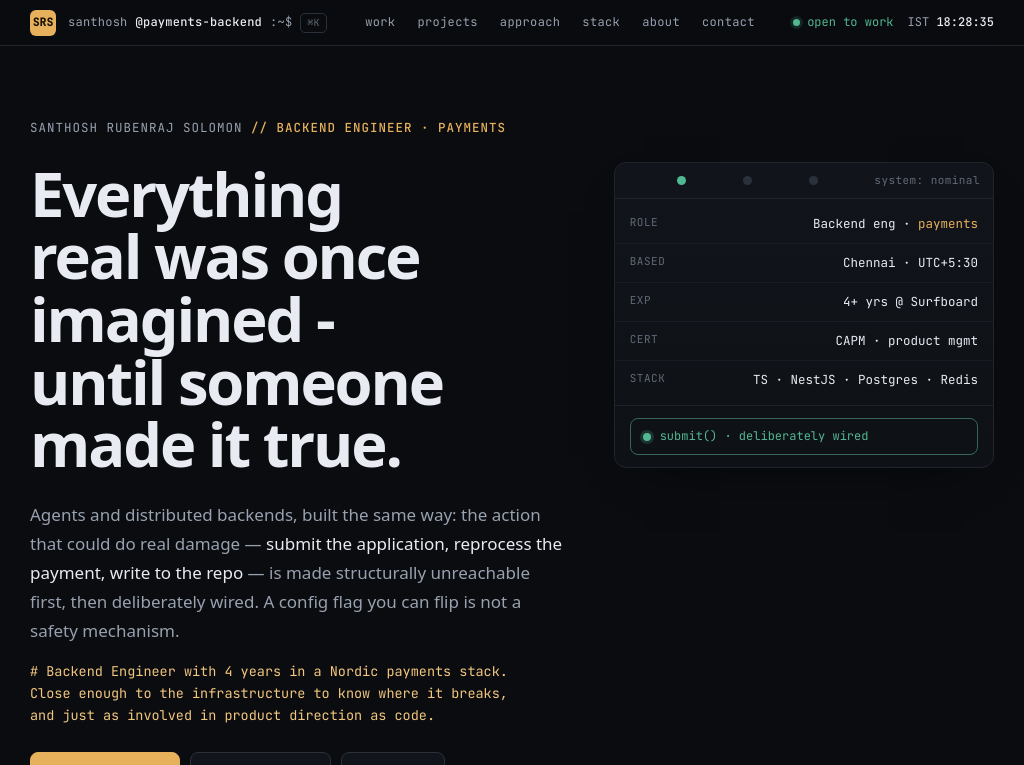
Test: commands › "work" closes the palette and scrolls to the section
Click the button titled "Command palette (⌘K)".
click(197, 22)  # box [68, 12, 327, 32]
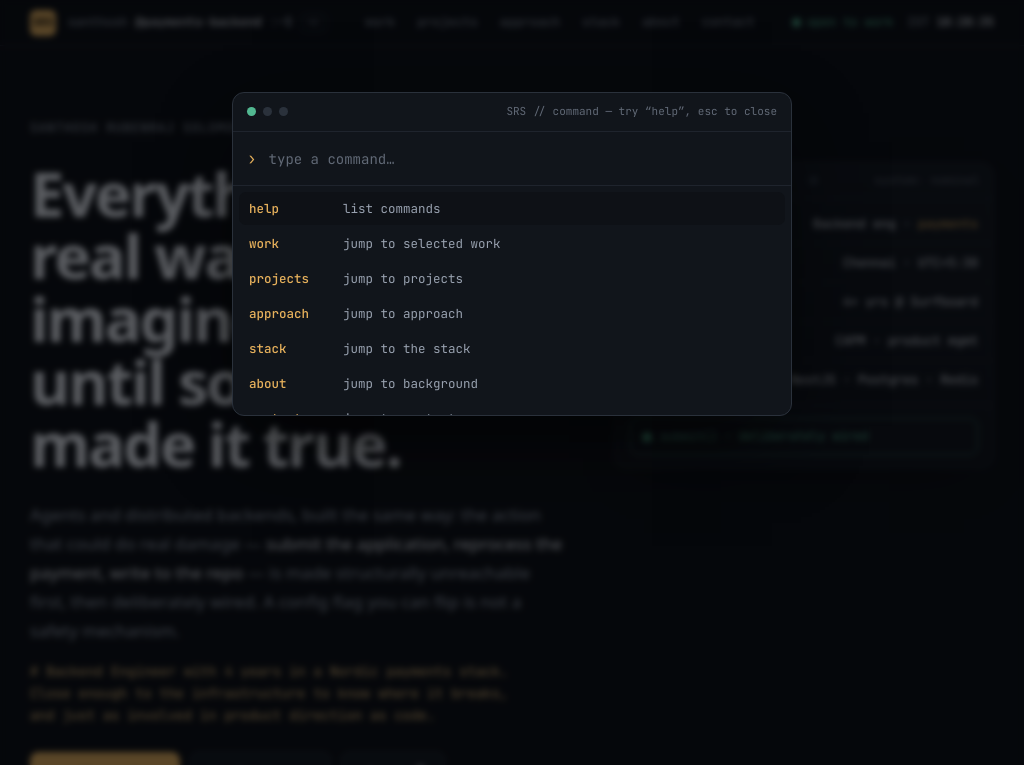
Type "work" into the field labelled "command".
click(522, 158); type("work")  # box [267, 148, 777, 168]
Then press Enter
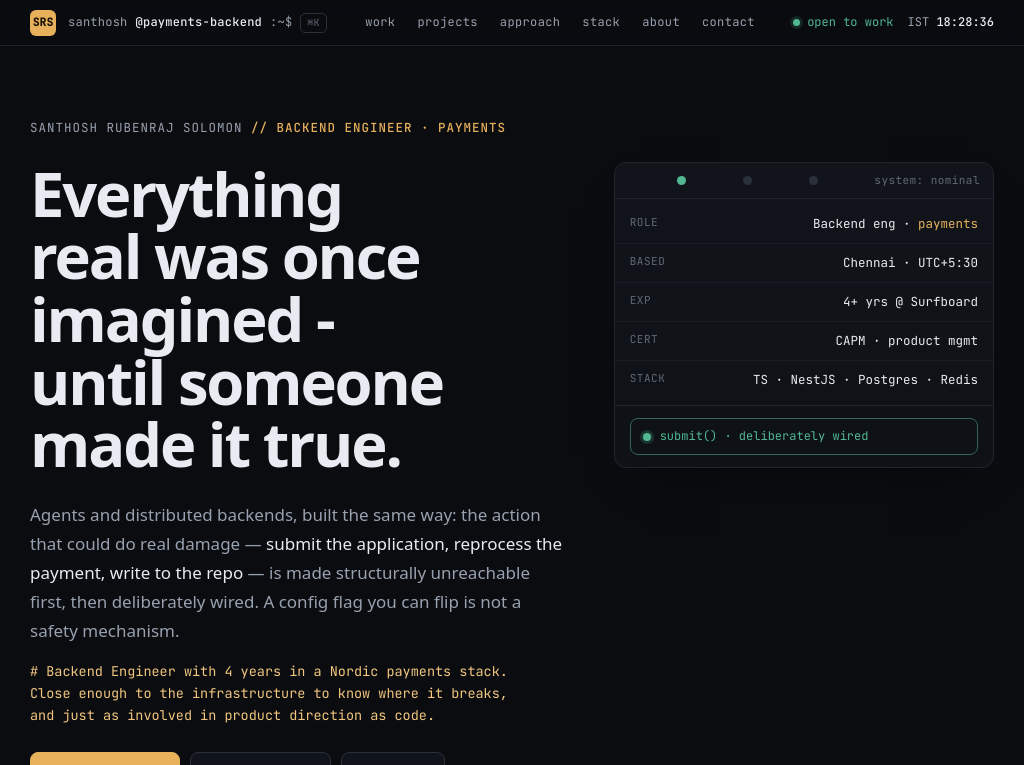
Now the dialog is gone
